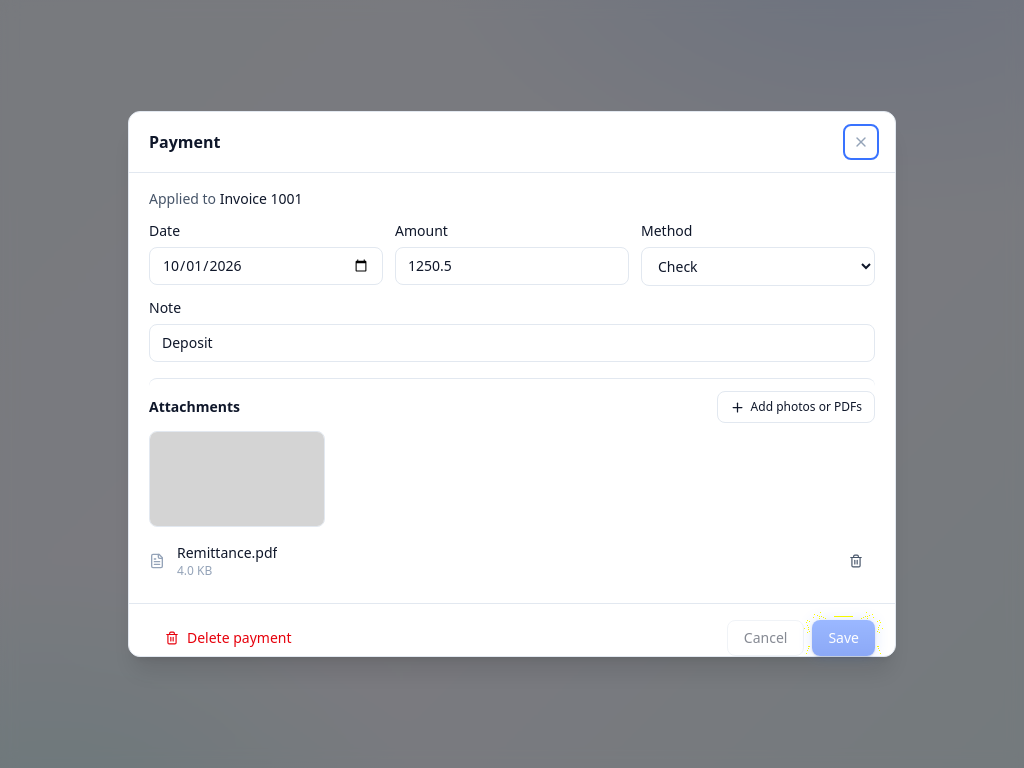
Test: PaymentDetailModal — the payment › will not save a zero amount or an empty date
Expected: the text "Invoice 1001" is shown, [220,189,303,208]
Replace the text in the number field labelled "Amount" with "0" at (512, 266), box [395,247,629,285]
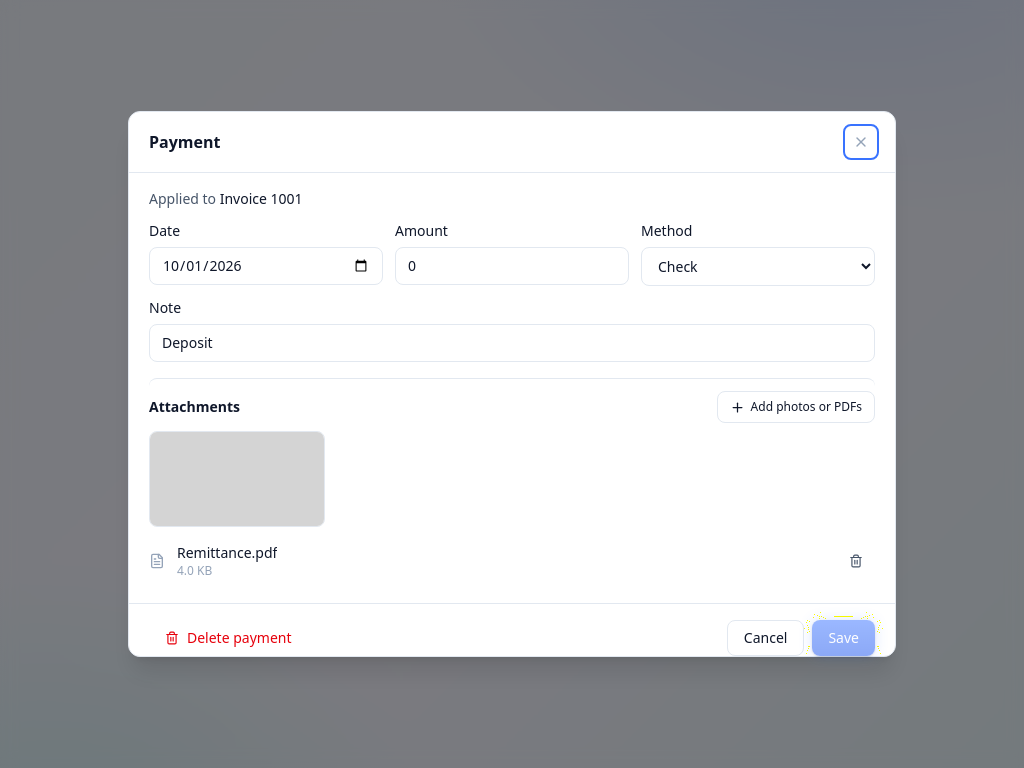
Expected: the button "Save" is disabled, [812,620,875,656]
Replace the text in the number field labelled "Amount" with "10" at (512, 266), box [395,247,629,285]
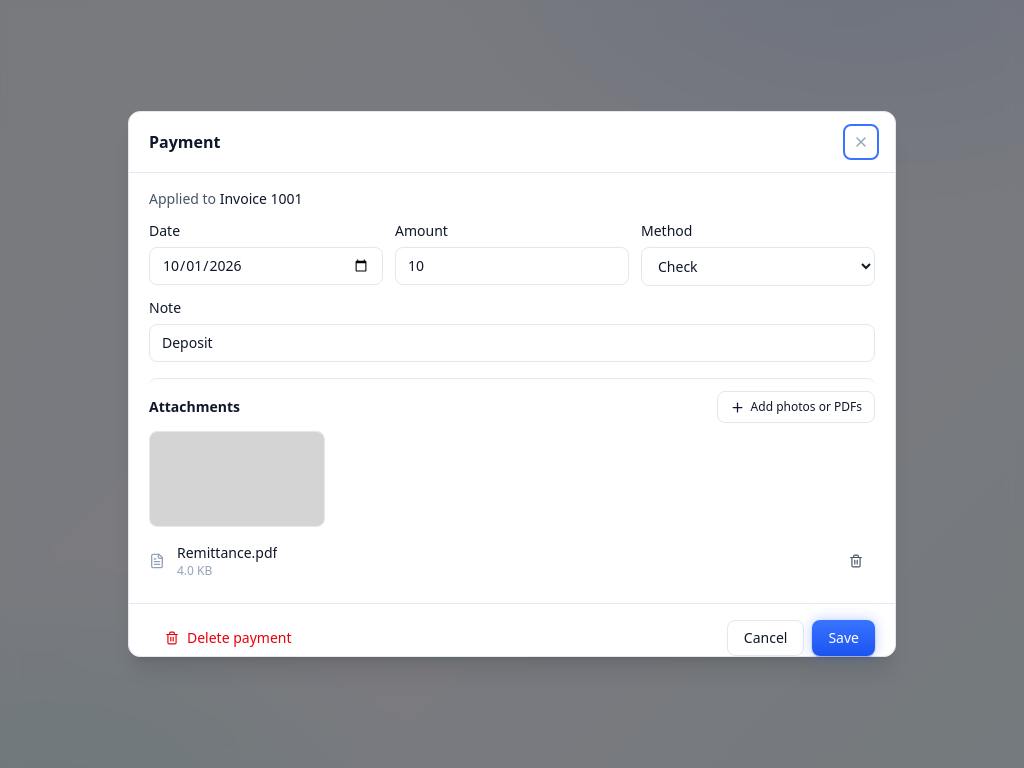
Clear the date field labelled "Date" at (266, 266), box [149,247,383,285]
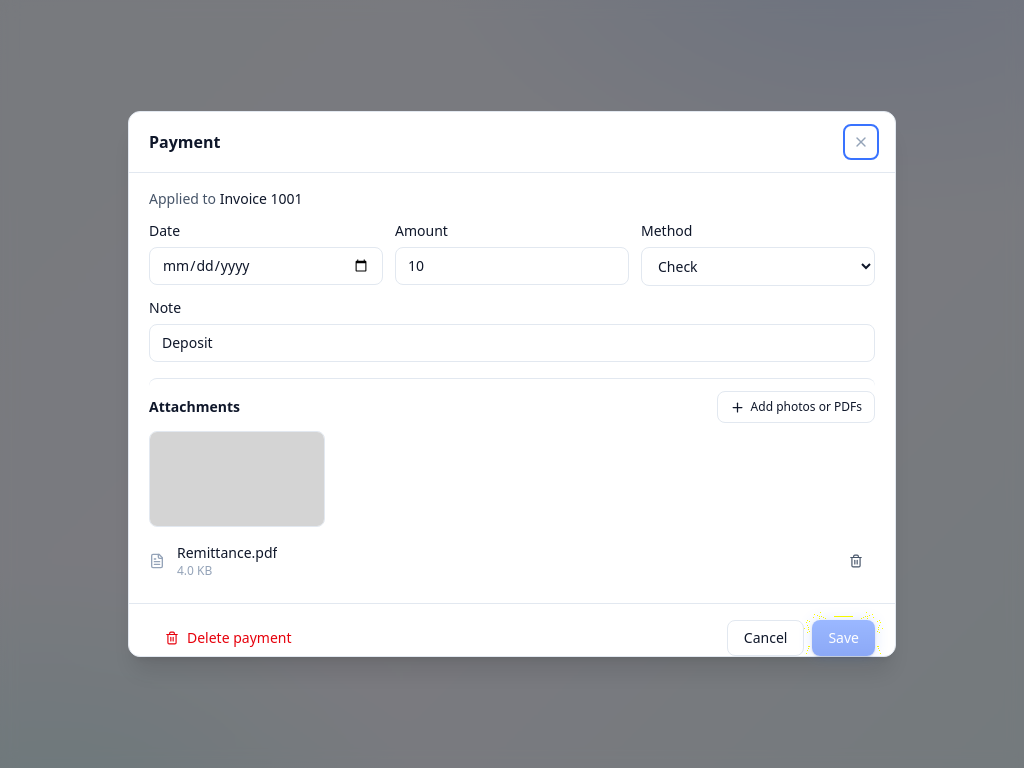
Expected: the button "Save" is disabled, [812,620,875,656]
